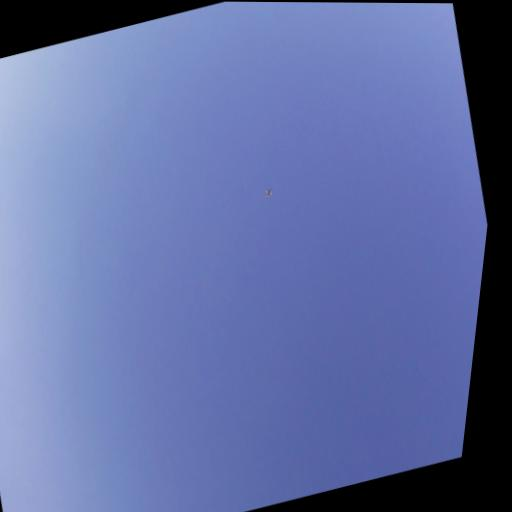drones: (262, 186, 275, 199)
